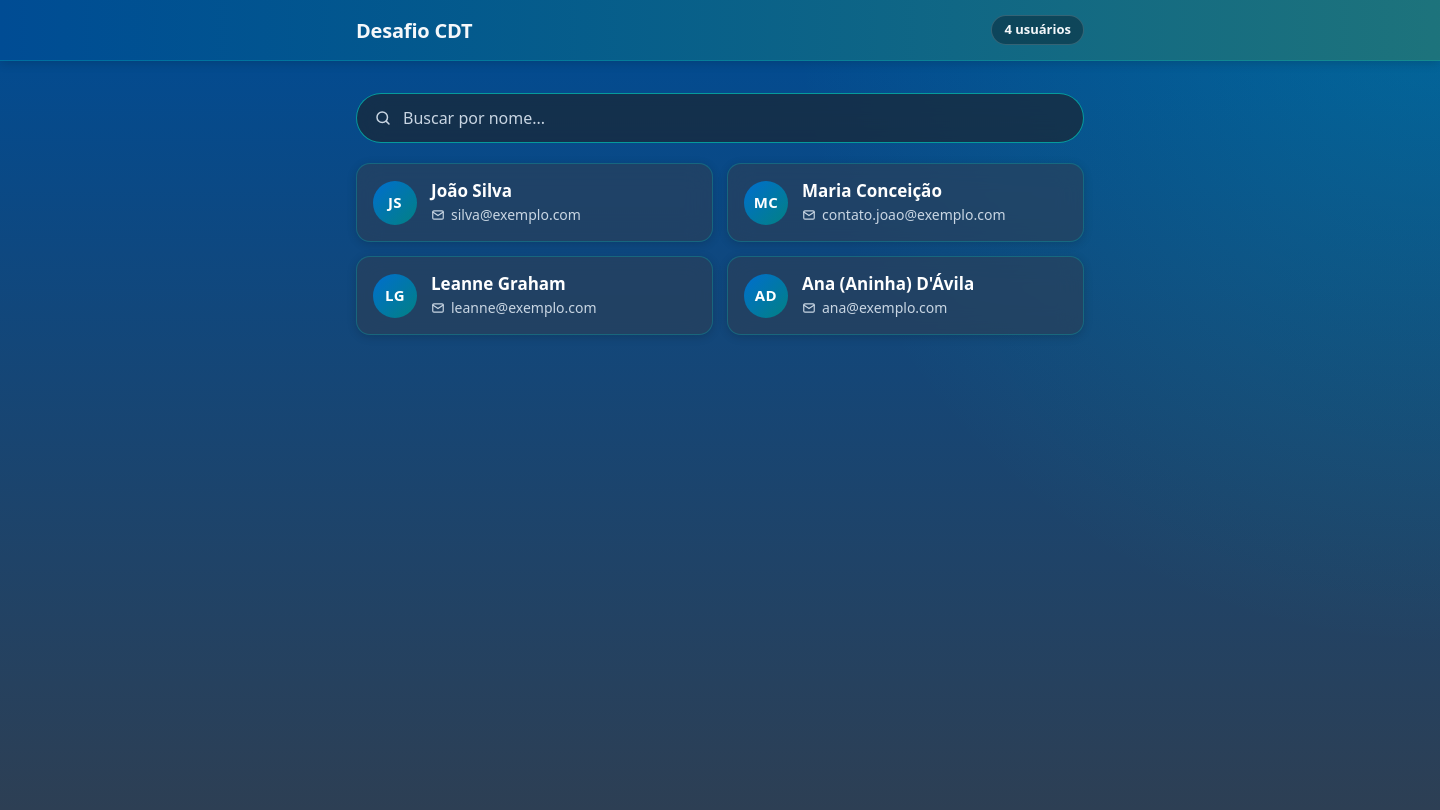
Test: App › modal de detalhes › abre com os dados do usuário clicado e fecha com Esc
Expected: the list is shown, left=356, top=163, right=1084, bottom=335
Step 1. Click the button "Leanne Graham" → (498, 284), box left=431, top=273, right=566, bottom=295
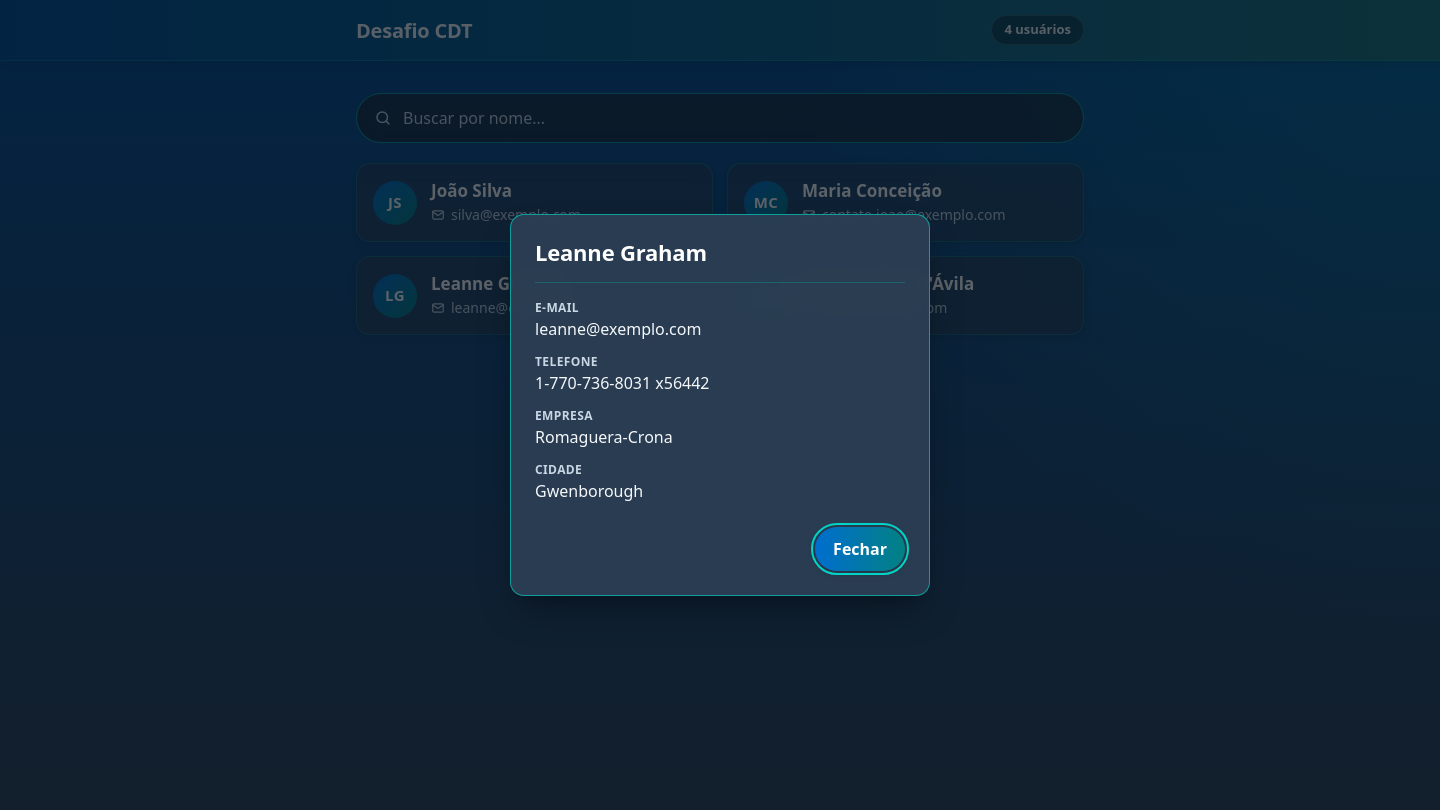
Expected: the text "leanne@exemplo.com" is shown, left=535, top=318, right=701, bottom=340
Expected: the text "1-770-736-8031 x56442" is shown, left=535, top=372, right=710, bottom=394
Expected: the text "Romaguera-Crona" is shown, left=535, top=426, right=673, bottom=448
Step 2. Press Escape
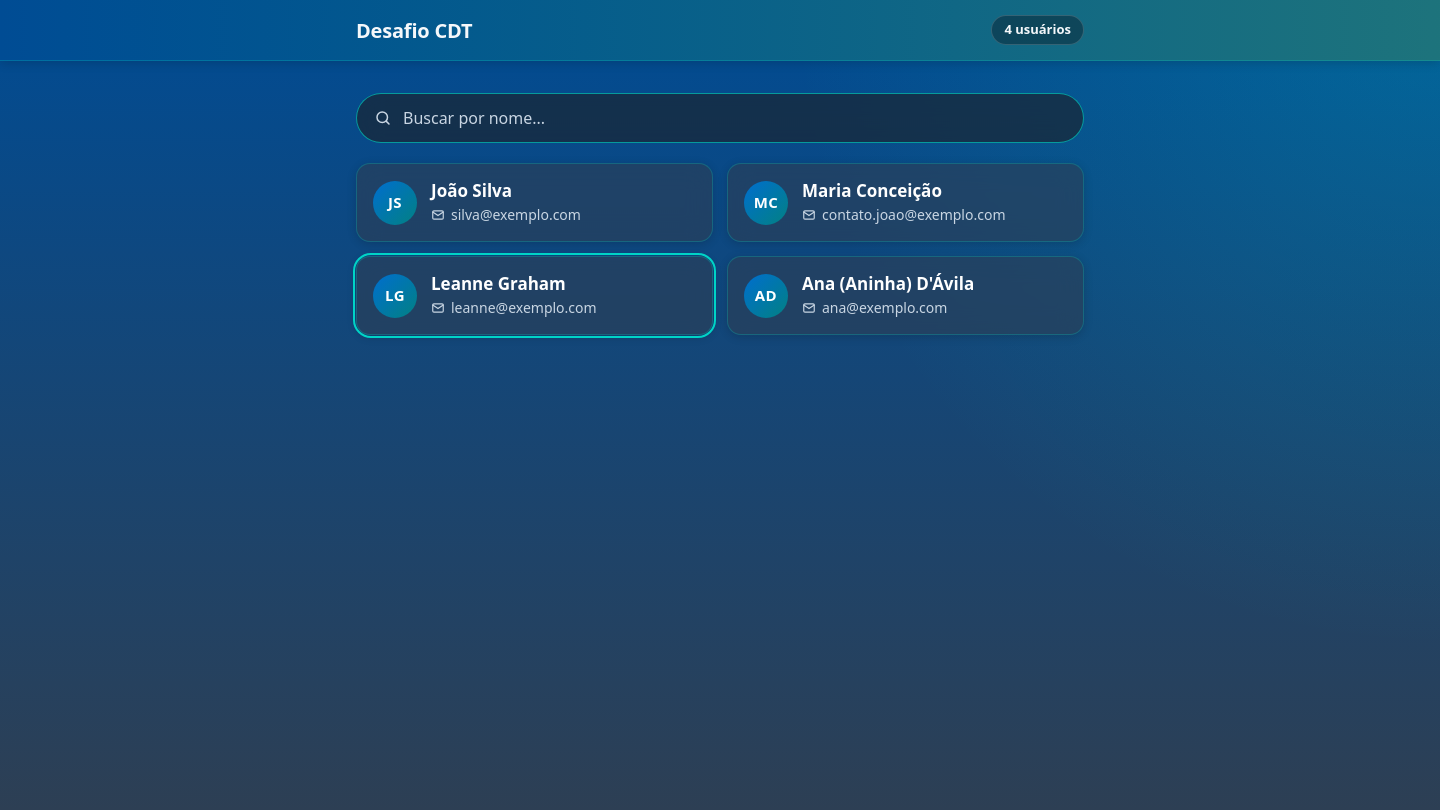
Expected: the dialog is gone
